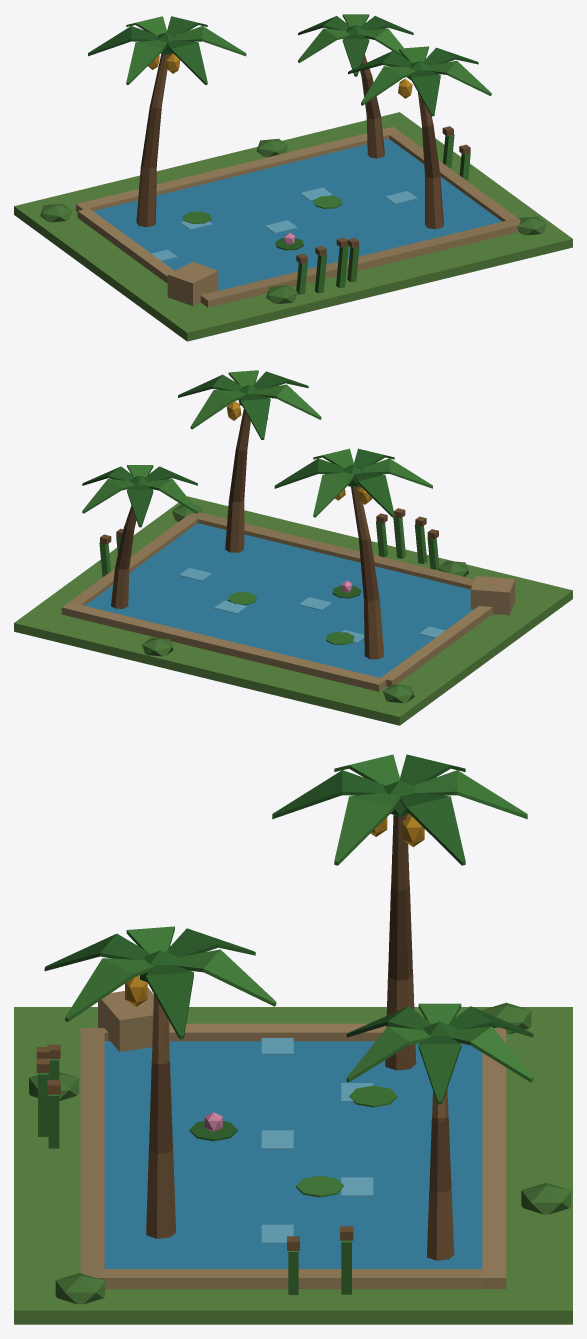
The model's file is Decor_PharaohPyramid_Oasis.fbx.
The picture shows the model from 3 angles, top to bottom: view 1: azimuth 30°, elevation 25°; view 2: azimuth 150°, elevation 25°; view 3: azimuth 270°, elevation 25°; orthographic projection. The views are drawn at different scales.
Parts seen in each view (by area): view 1: Oasis_Body; view 2: Oasis_Body; view 3: Oasis_Body.
Part boxes in pixels (box(x1,y1,x2,y2)): Oasis_Body: box(14, 14, 572, 341); Oasis_Body: box(14, 370, 572, 725); Oasis_Body: box(14, 754, 572, 1324).
Bounding box in the file's own units: 27 × 13.2 × 21.
